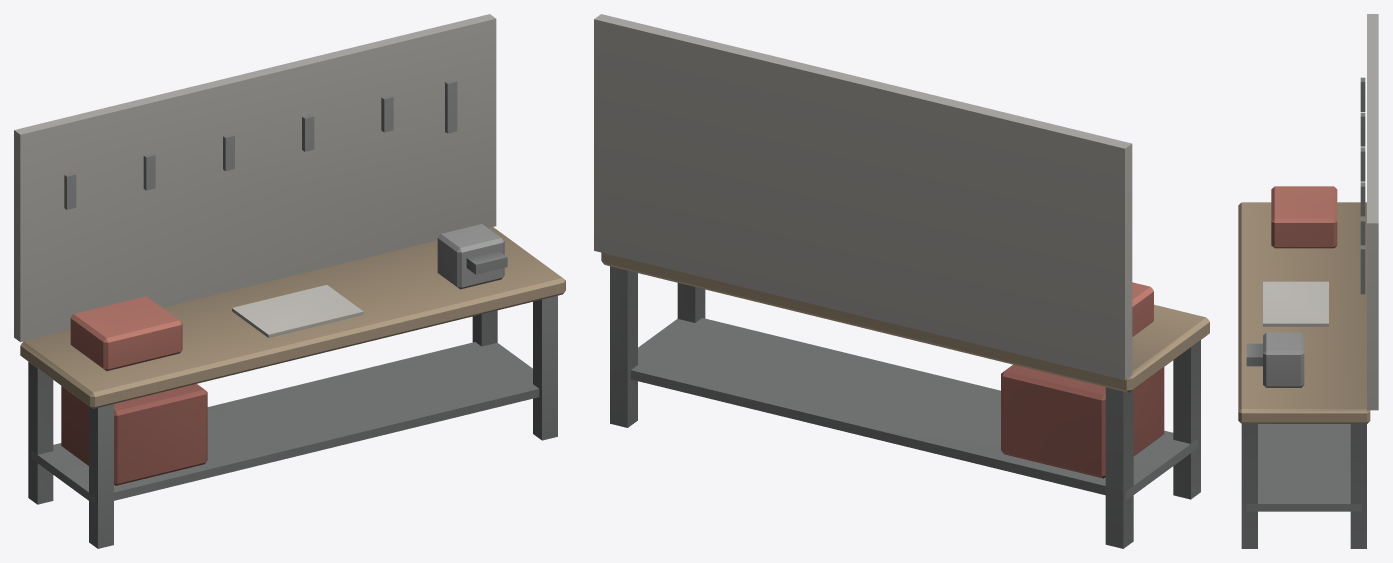
The model's file is int_bench.glb.
The picture shows the model from 3 angles, left to right: view 1: azimuth 30°, elevation 25°; view 2: azimuth 150°, elevation 25°; view 3: azimuth 270°, elevation 25°; orthographic projection. The views are drawn at different scales.
Visible parts, largest first — view 1: int_bench; view 2: int_bench; view 3: int_bench.
Part boxes in pixels (box(x1,y1,x2,y2)): int_bench: box(14, 14, 565, 548); int_bench: box(594, 14, 1209, 548); int_bench: box(1238, 14, 1378, 548).
Size of the model in its own units: 3 by 2.2 by 0.85.
